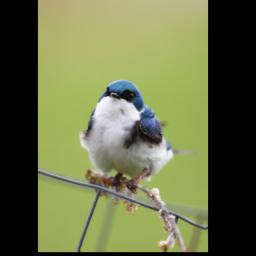Swallow: (77, 78, 201, 195)
